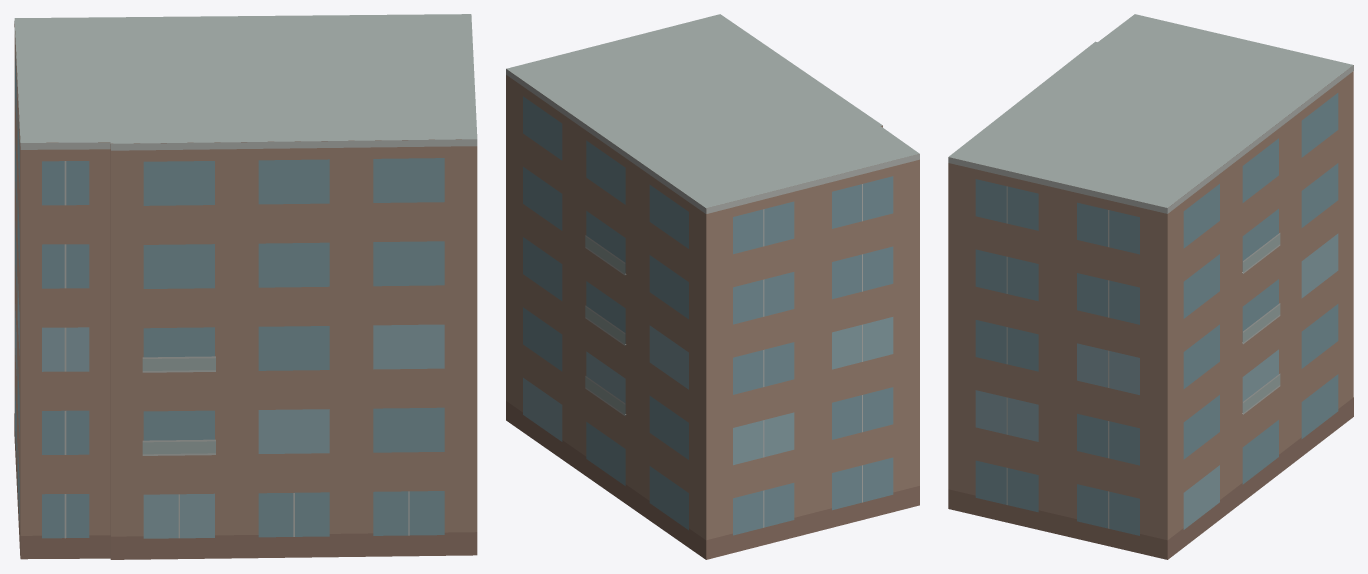
Rendered from survey-upis-32847877.glb.
3 views of the same model, side by side, from view 1: azimuth 30°, elevation 25°; view 2: azimuth 150°, elevation 25°; view 3: azimuth 270°, elevation 25° (orthographic). The views are drawn at different scales.
Visible parts, largest first — view 1: survey-upis-32847877.tmp; view 2: survey-upis-32847877.tmp; view 3: survey-upis-32847877.tmp.
Part boxes in pixels (<box>): survey-upis-32847877.tmp: <box>14,14,477,559</box>; survey-upis-32847877.tmp: <box>506,14,919,559</box>; survey-upis-32847877.tmp: <box>948,14,1353,559</box>.
Bounding box in the file's own units: 17.22 × 14.55 × 15.21.
